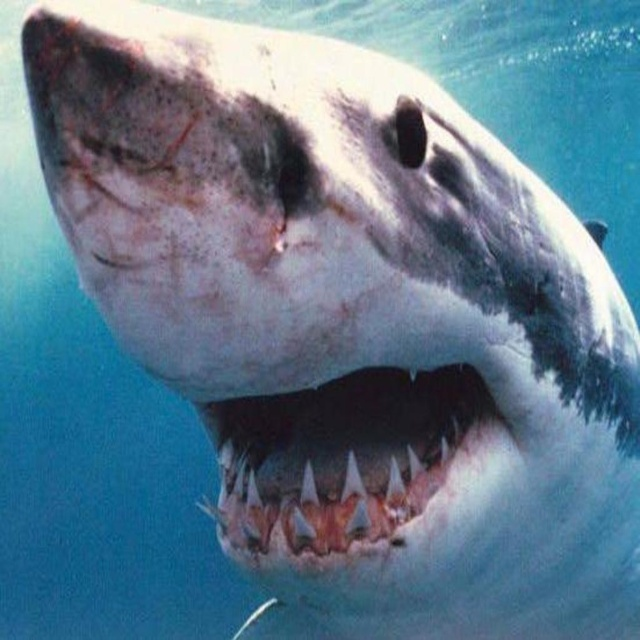Shark: (21, 0, 639, 640)
